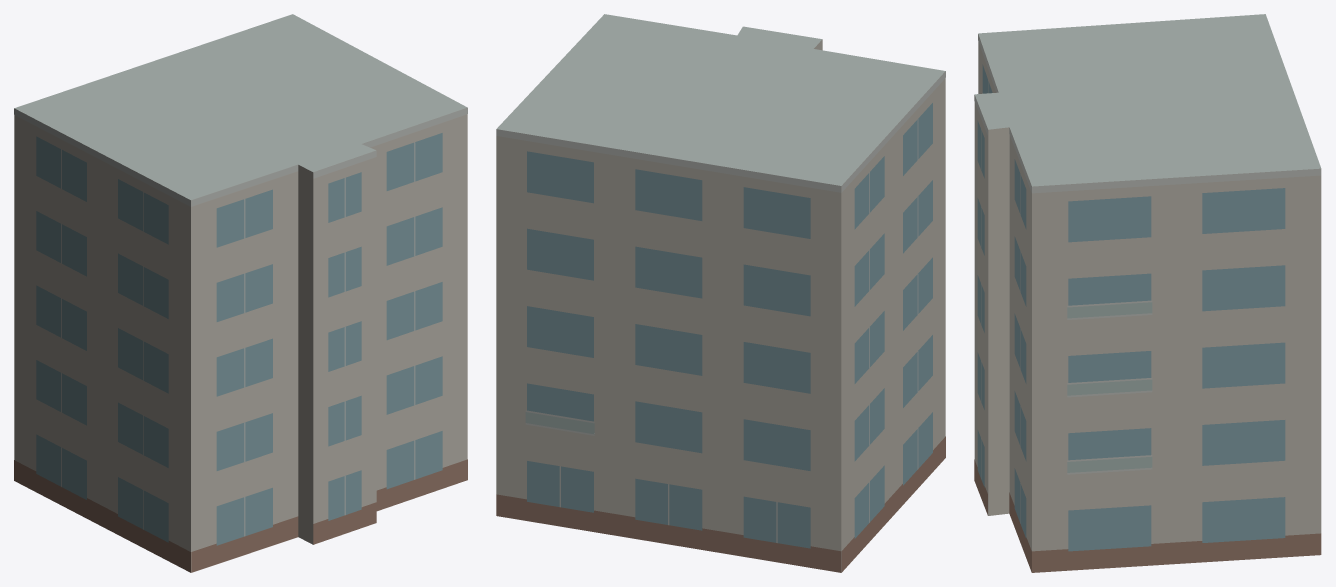
Rendered from survey-upis-32747529.glb.
3 renders of one model, left to right at view 1: azimuth 30°, elevation 25°; view 2: azimuth 150°, elevation 25°; view 3: azimuth 270°, elevation 25°, orthographic. The views are drawn at different scales.
Parts seen in each view (by area): view 1: survey-upis-32747529.tmp; view 2: survey-upis-32747529.tmp; view 3: survey-upis-32747529.tmp.
Part boxes in pixels (x1,y1,x2,y2): survey-upis-32747529.tmp: (14,14,467,572); survey-upis-32747529.tmp: (496,14,945,572); survey-upis-32747529.tmp: (974,14,1321,572).
Size of the model in its own units: 13.23 by 13.8 by 11.24.
